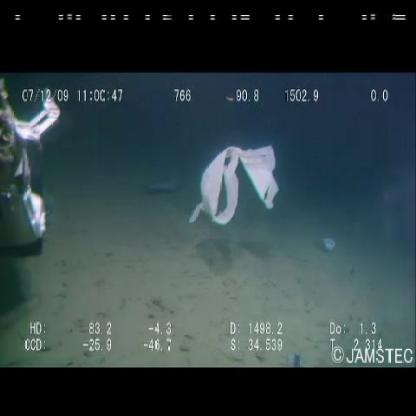Rác: (183, 140, 282, 233)
